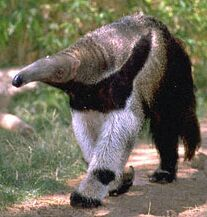TamanduaBandeira: (8, 13, 202, 210)
